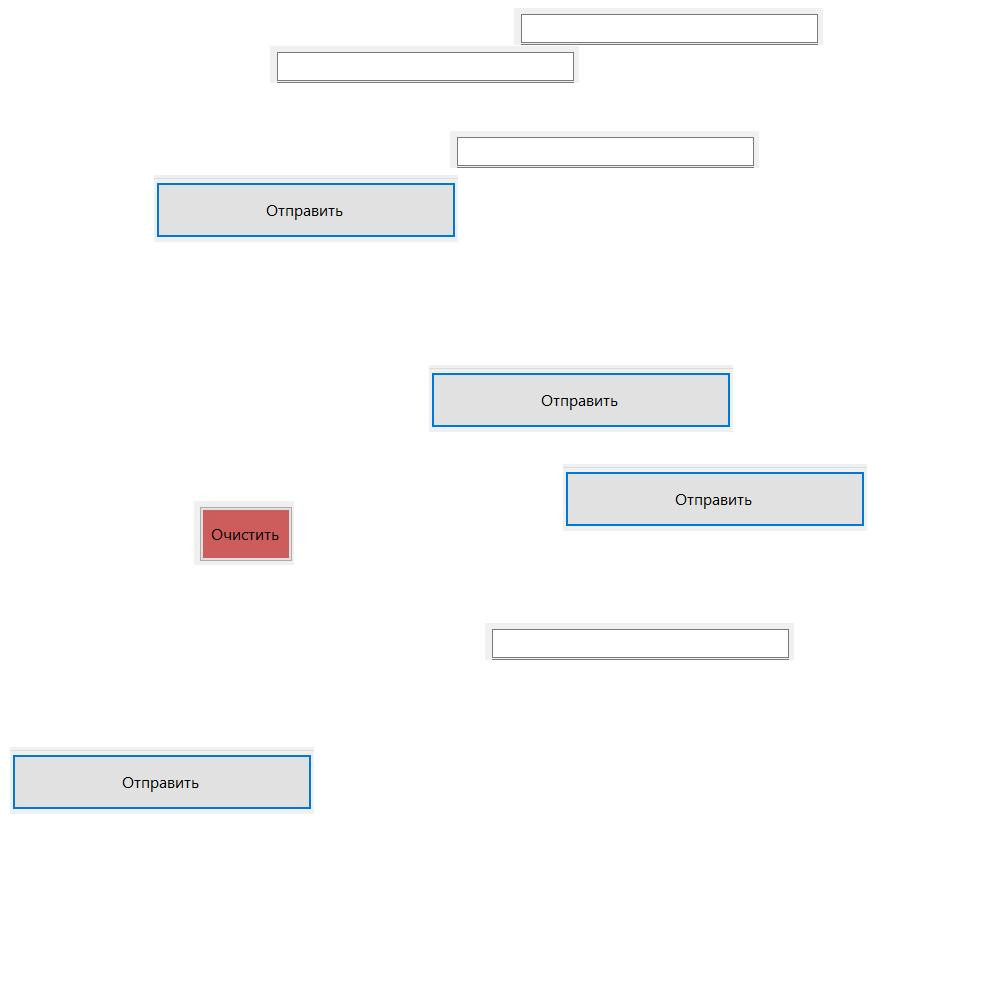Button: (10, 747, 314, 814), (154, 175, 458, 242), (429, 365, 733, 432), (563, 464, 867, 531), (194, 501, 294, 565)
EditText-: (485, 623, 794, 660), (270, 46, 579, 83), (514, 8, 823, 45), (450, 131, 759, 168)
